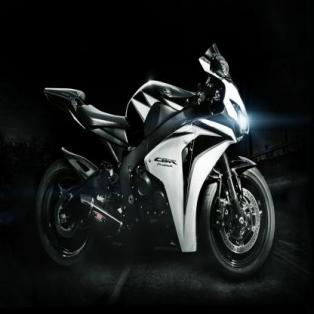Motocicleta: (31, 42, 278, 282)
